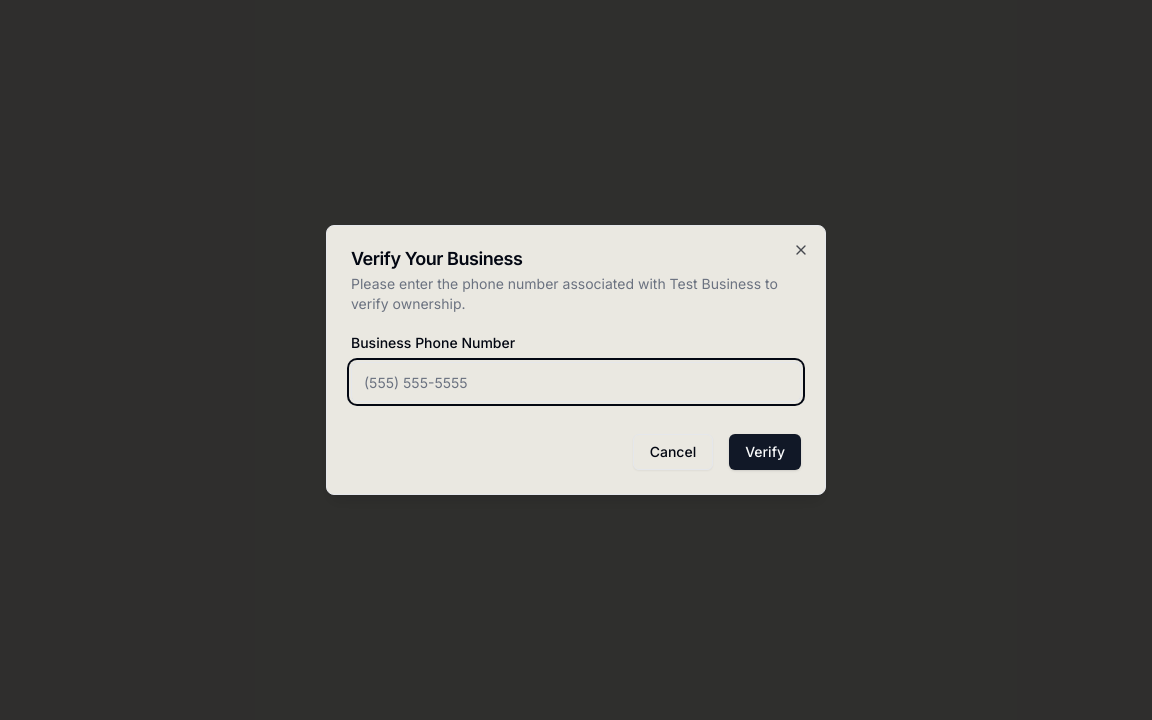
VerifyDialog › formats phone number as user types
This screenshot has width=1152, height=720.
Type "5551234567" into the field labelled "Business Phone Number" at [576, 382], box [351,362,801,402]
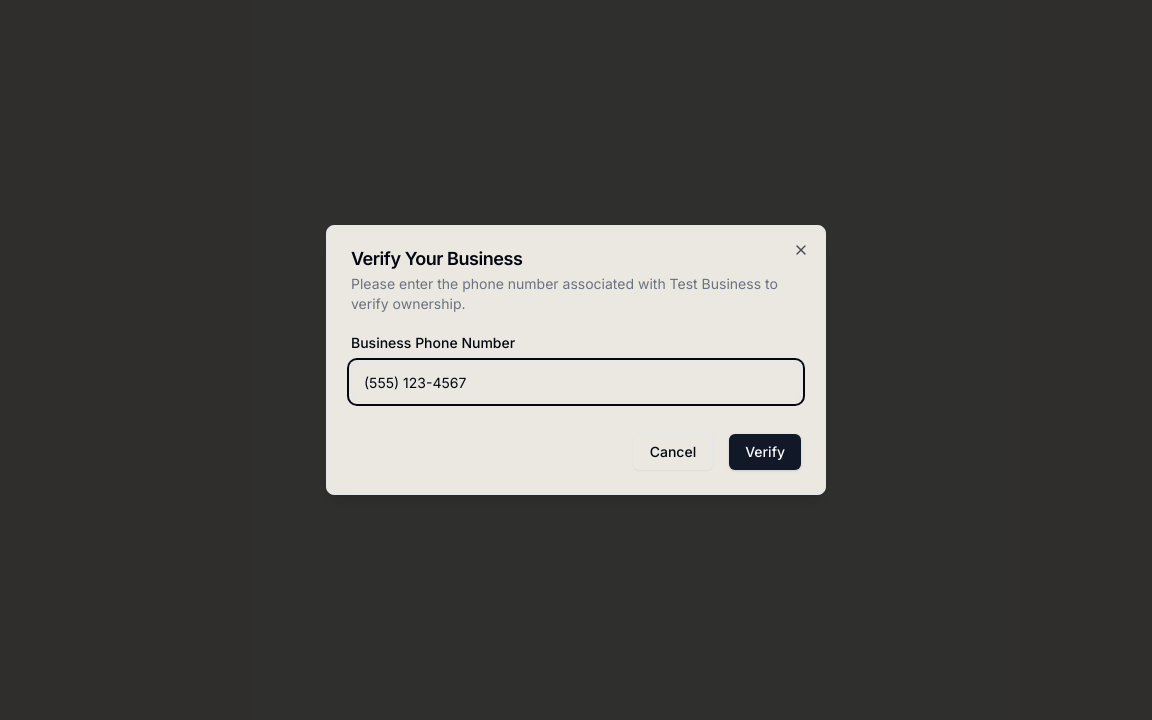
Result: the field labelled "Business Phone Number" holds "(555) 123-4567" at [351,362,801,402]
